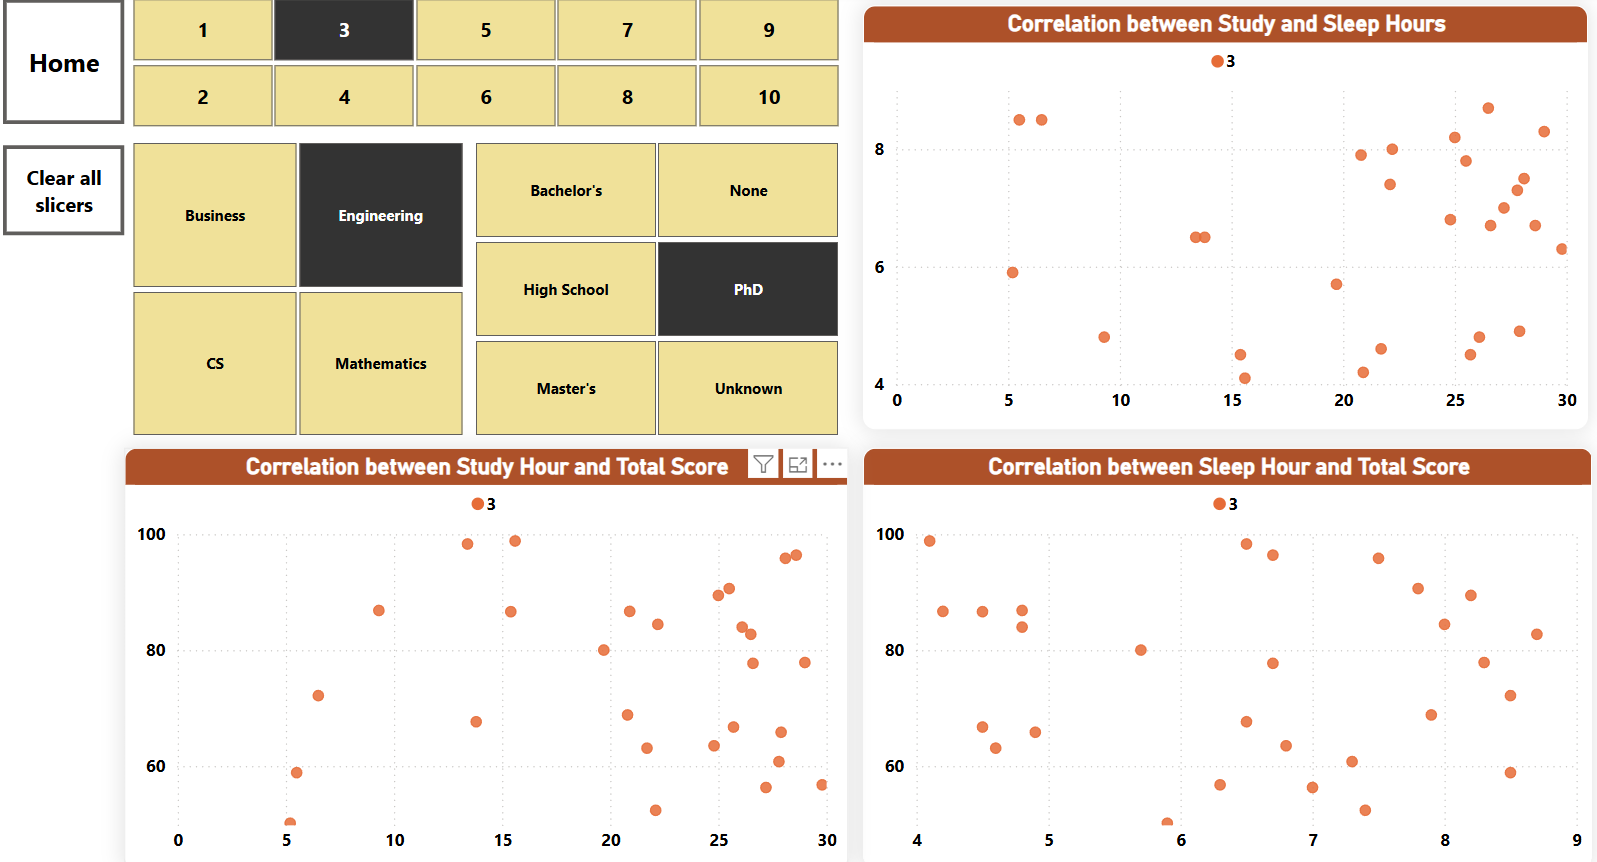

The page's visual inventory and layout, read from the dashboard file:
{"tool":"powerbi","page":{"name":"Correlation","canvas":[1280,720],"ordinal":1},"visuals":[{"type":"slicer","title":"stress","fields":{"Values":["Main_data.Stress_Level (1-10)"]},"box":[82,9.5,613.9,116.1],"z":0,"group":"g1"},{"type":"slicer","title":"Department Slicer","fields":{"Values":["Main_data.Department"]},"box":[81.8,124.9,313,247.7],"z":0,"group":"g2"},{"type":"scatterChart","title":"Correlation between Sleep Hour and Total Score","fields":{"Category":["Main_data.Student_ID"],"X":["Sum(Main_data.Sleep_Hours_per_Night)"],"Y":["Sum(Main_data.Total_Score)"],"Series":["Main_data.Stress_Level (1-10)"]},"box":[692.1,374.5,584.3,337.8],"z":0},{"type":"scatterChart","title":"Correlation between Study  and Sleep Hours","fields":{"Category":["Main_data.Student_ID"],"Y":["Sum(Main_data.Sleep_Hours_per_Night)"],"X":["Sum(Main_data.Study_Hours_per_Week)"],"Series":["Main_data.Stress_Level (1-10)"]},"box":[692,21,580,339],"z":1000},{"type":"slicer","title":"Parent Education","fields":{"Values":["Main_data.Parent_Education_Level"]},"box":[356.3,124.9,339.5,247.7],"z":1000,"group":"g2"},{"type":"group","id":"g1","title":"Stress level","box":[82,9.5,613.9,116.1],"z":2000,"group":"g2"},{"type":"scatterChart","title":"Correlation between Study Hour and Total Score ","fields":{"X":["Sum(Main_data.Study_Hours_per_Week)"],"Y":["Sum(Main_data.Total_Score)"],"Category":["Main_data.Student_ID"],"Series":["Main_data.Stress_Level (1-10)"]},"box":[100.7,374.5,579.6,337.8],"z":2000},{"type":"group","id":"g2","title":"Group 1","box":[81.8,9.5,613.9,362.7],"z":3000},{"type":"actionButton","box":[4,16,97,100],"z":4000},{"type":"actionButton","box":[4,133,97,72],"z":5000}]}

Visuals, with their boxes on the page's 1280x720 design canvas (x1, y1, x2, y2). These are canvas units, not pixel positions in the 1597x862 screenshot, which may show the page scaled, cropped or inside an application window:
"stress" slicer: (82,10,696,126)
"Department Slicer" slicer: (82,125,395,373)
"Correlation between Sleep Hour and Total Score" scatterChart: (692,374,1276,712)
"Correlation between Study  and Sleep Hours" scatterChart: (692,21,1272,360)
"Parent Education" slicer: (356,125,696,373)
"Stress level" group: (82,10,696,126)
"Correlation between Study Hour and Total Score " scatterChart: (101,374,680,712)
"Group 1" group: (82,10,696,372)
actionButton: (4,16,101,116)
actionButton: (4,133,101,205)
